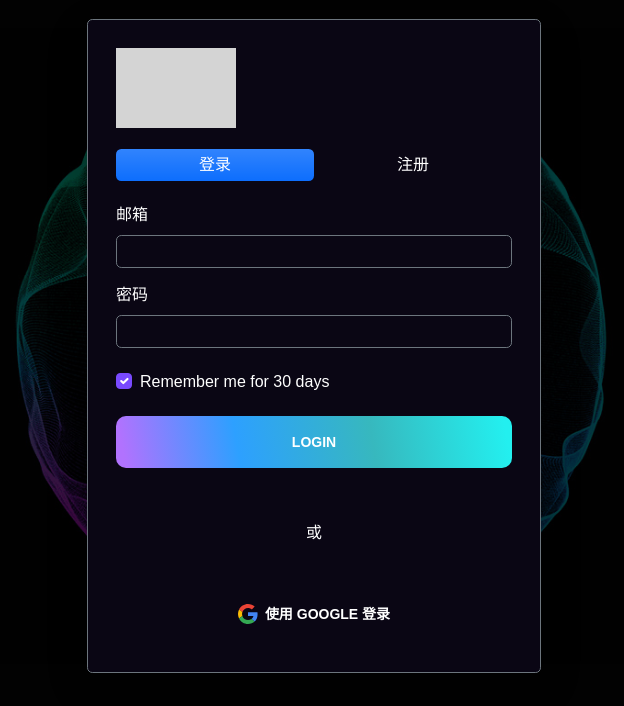
Signin page i18n › renders key labels in Chinese
This screenshot has width=624, height=706.
Expected: the button "登录" is shown, [116,149,314,181]
Expected: the text "邮箱" is shown, [116,202,148,228]
Click the button "注册".
click(413, 165)  # box [314,149,512,181]
(page scrolled)
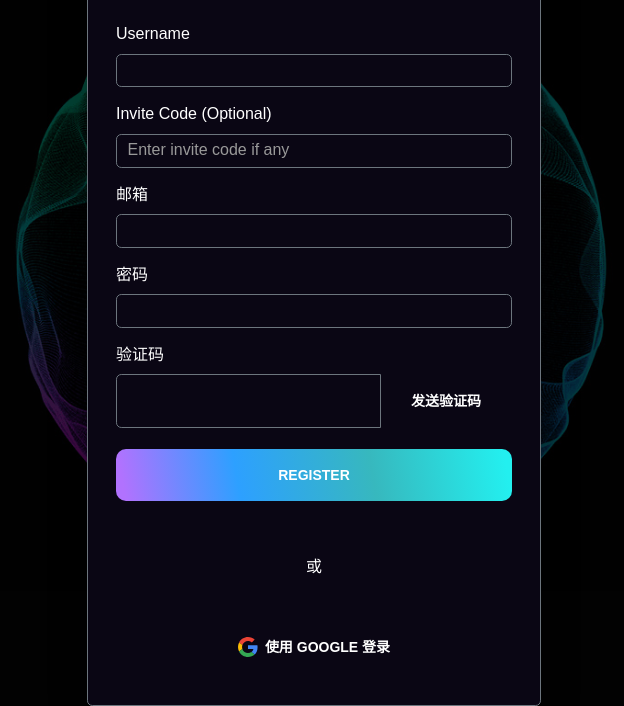
Expected: the text "或" is shown, [306,558,322,575]
Now the button "发送验证码" is shown, box [380,374,512,428]
